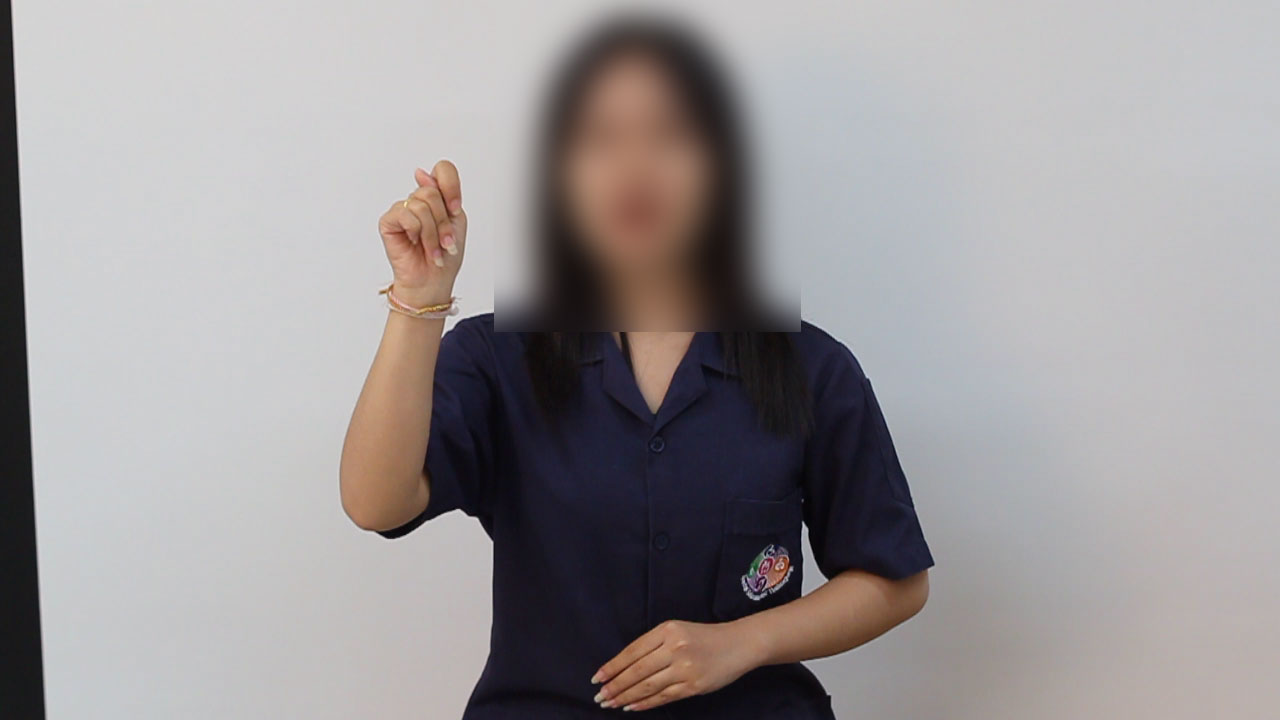tor: (362, 152, 503, 301)
